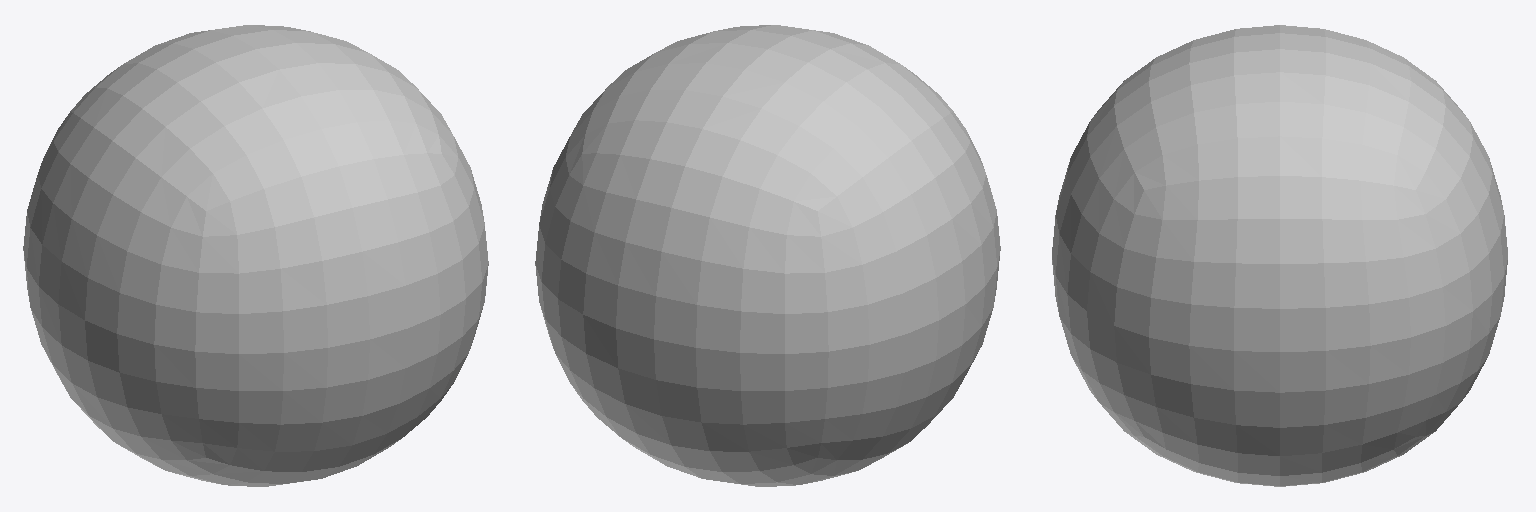
File: TerriblyModeledBeachBall.obj
The picture shows the model from 3 angles: view 1: azimuth 30°, elevation 25°; view 2: azimuth 150°, elevation 25°; view 3: azimuth 270°, elevation 25°; orthographic projection.
Parts seen in each view (by area): view 1: Cube.006, Cube.004, Cube.002, Cube.001, Cube.003; view 2: Cube, Cube.005, Cube.003, Cube.001, Cube.002; view 3: Cube.001, Cube.002, Cube.003, Cube.004, Cube.005, Cube, Cube.006.
Part boxes in pixels (x1,y1,x2,y2): Cube.006: (237,186,465,451); Cube.004: (154,120,488,483); Cube.002: (85,63,484,486); Cube.001: (39,30,417,467); Cube.003: (23,25,310,390); Cube: (558,186,786,451); Cube.005: (535,120,869,483); Cube.003: (539,63,938,486); Cube.001: (606,30,984,467); Cube.002: (713,25,1000,390); Cube.001: (1234,25,1325,486); Cube.002: (1149,29,1237,482); Cube.003: (1322,29,1410,482); Cube.004: (1087,58,1165,455); Cube.005: (1394,58,1472,455); Cube: (1446,122,1507,411); Cube.006: (1052,122,1113,411).
Bounding box in the file's own units: 1.68 × 1.68 × 1.68.